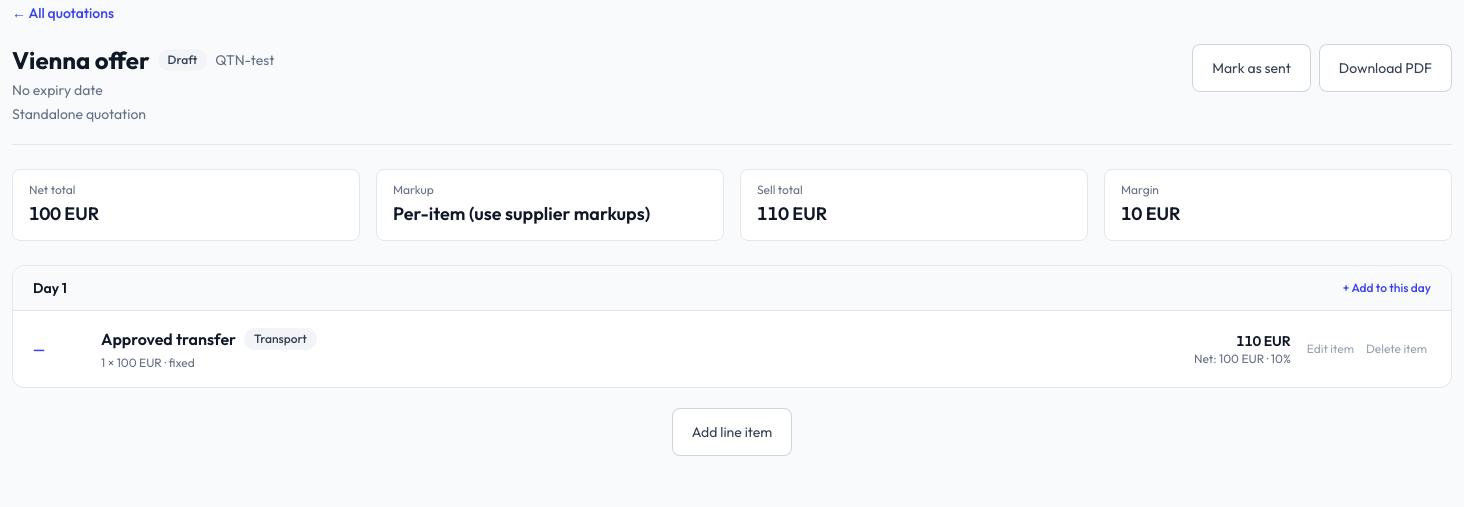
quotation approval UI › reloads complete quotation items after each status change
The image size is (1464, 507).
Click the button "Mark as sent" at (1252, 68), box [1192,44,1311,92]
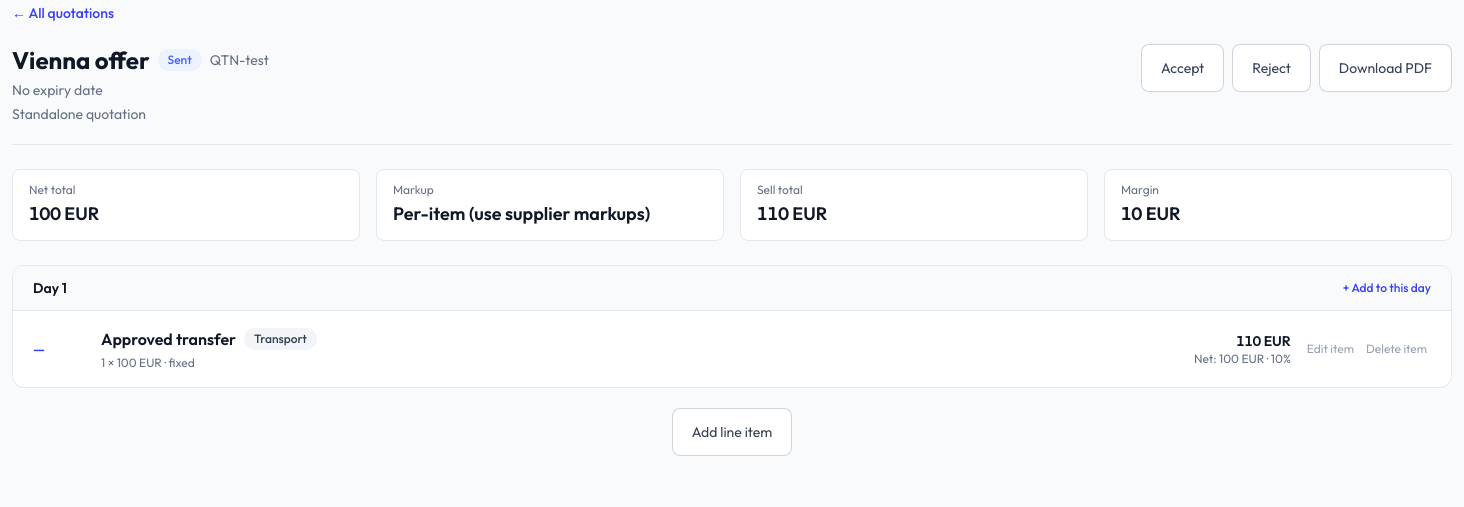
Click the button "Accept" at (1183, 68), box [1141,44,1224,92]
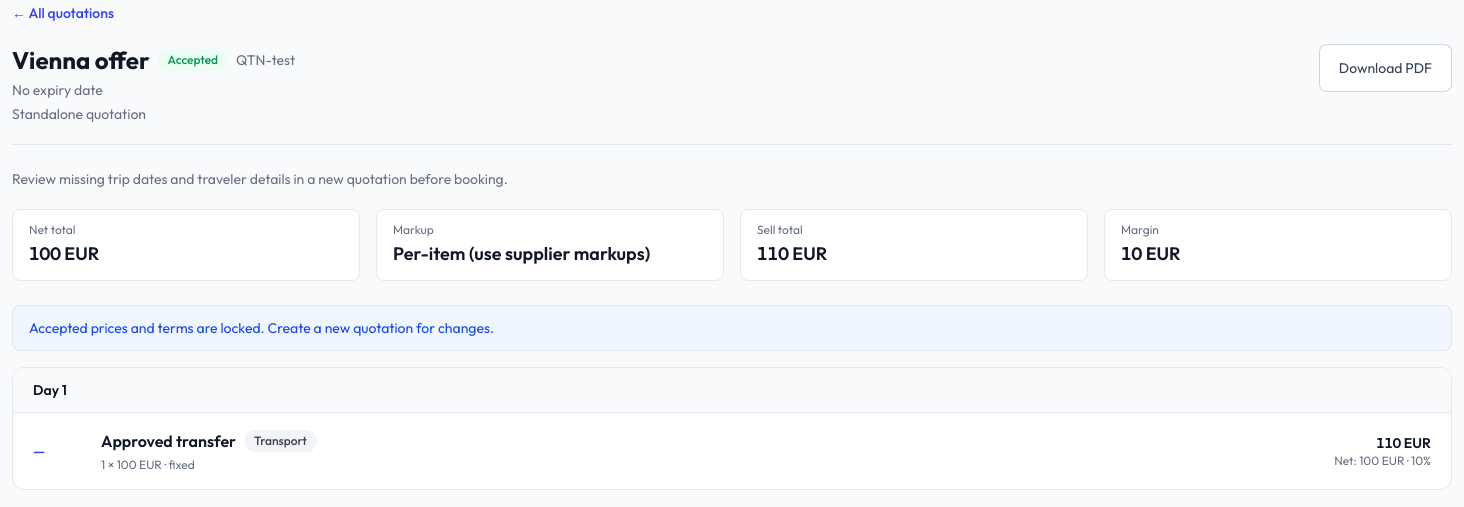
Expected: the heading "Approved transfer" is shown, [101,429,236,453]
Now the message reads "Accepted prices and terms are locked. Create a new quotation for changes.", box [29,319,494,337]
